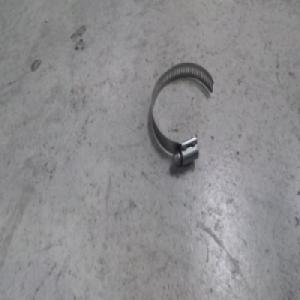AdjustableClamp: (148, 49, 217, 157)
